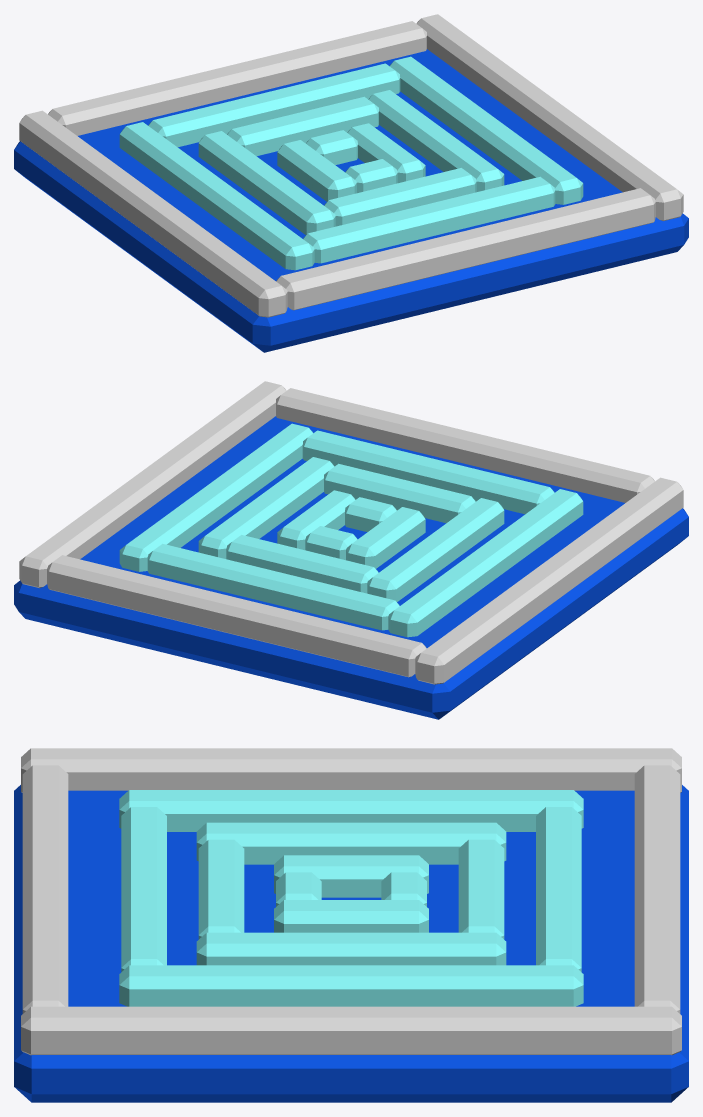
Rendered from terrain-teleport.glb.
3 renders of one model, top to bottom at view 1: azimuth 30°, elevation 25°; view 2: azimuth 150°, elevation 25°; view 3: azimuth 270°, elevation 25°, orthographic. The views are drawn at different scales.
Visible parts, largest first — view 1: terrain-teleport; view 2: terrain-teleport; view 3: terrain-teleport.
Part boxes in pixels (left/top/right/bottom): terrain-teleport: left=14, top=14, right=688, bottom=352; terrain-teleport: left=14, top=381, right=688, bottom=719; terrain-teleport: left=14, top=748, right=688, bottom=1102.
Size of the model in its own units: 0.96 by 0.1325 by 0.96.
